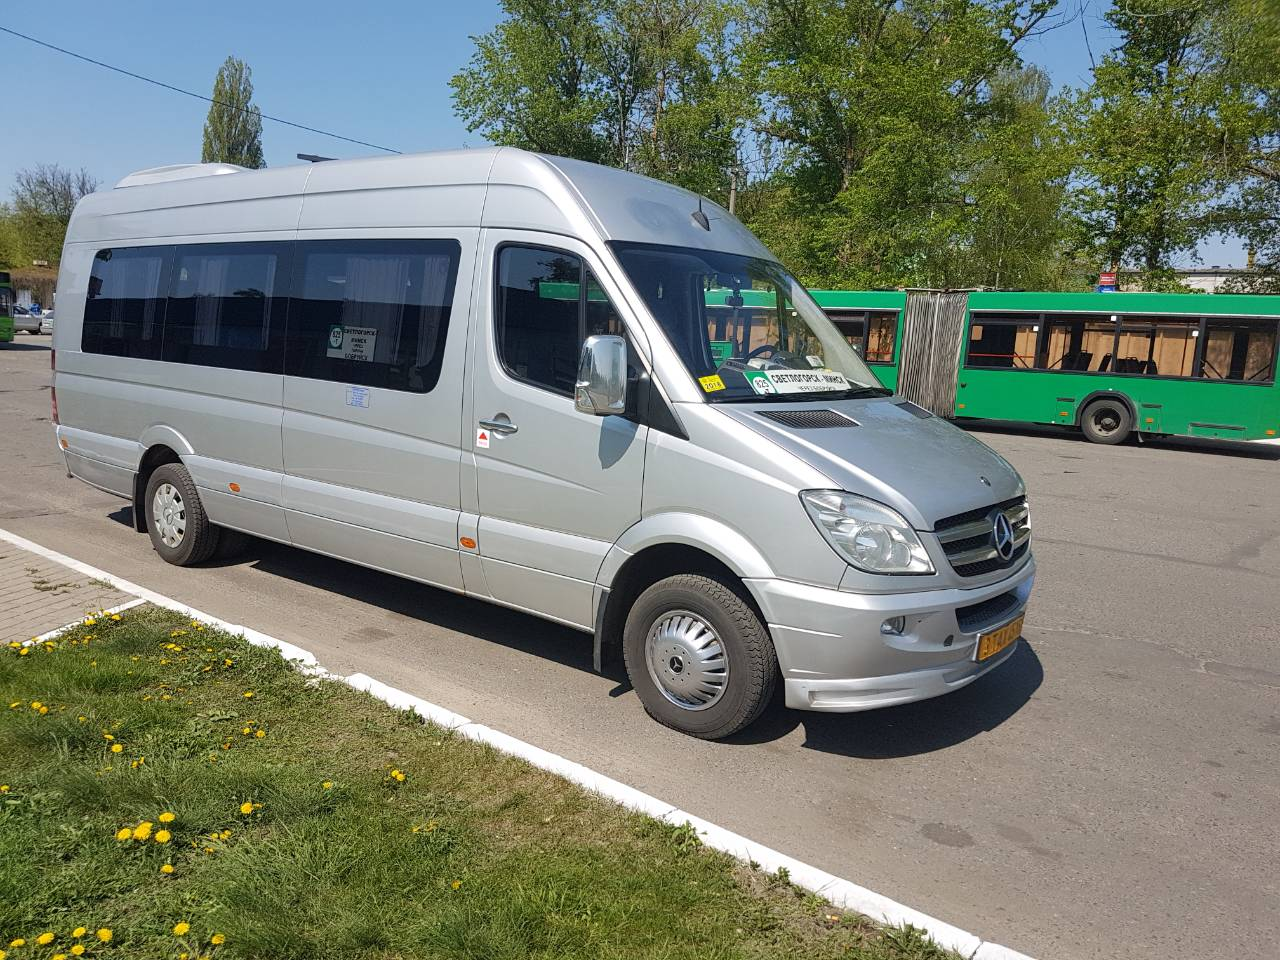bus: (540, 281, 1280, 459)
van: (50, 146, 1032, 746)
